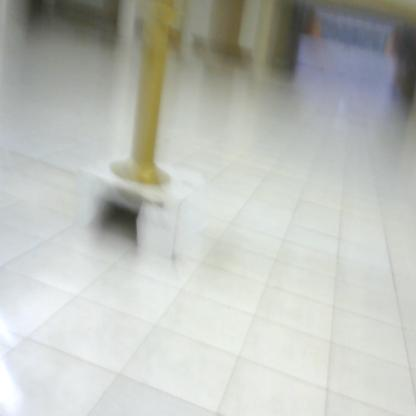pole: (116, 1, 182, 217)
